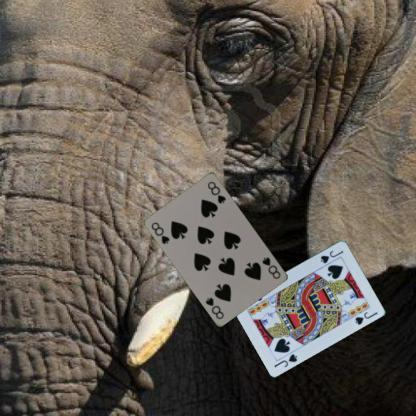8s: (259, 254, 282, 280), (149, 219, 171, 245)
Js: (318, 247, 345, 265), (272, 351, 298, 369)
